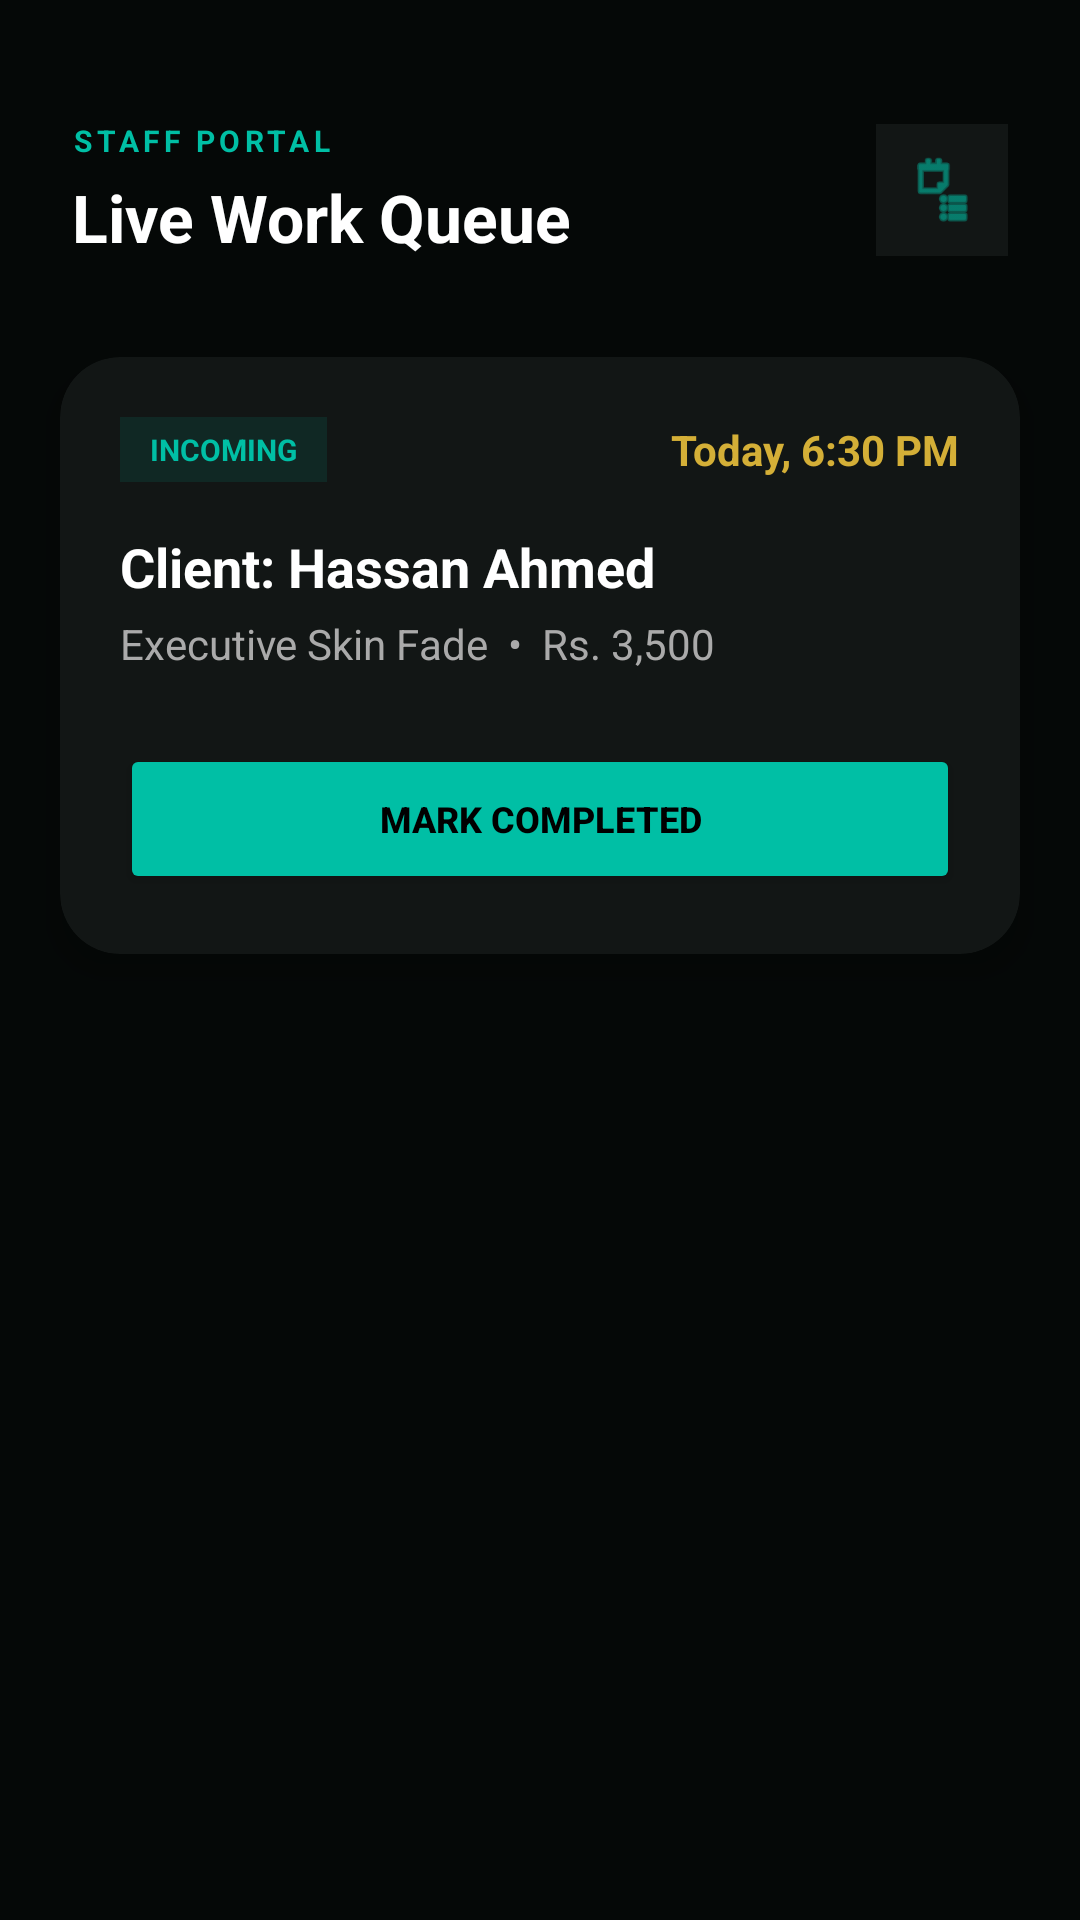

Named icons in this screenshot (1080*1920) and their centers, [x,y]:
agenda: [942,190]
